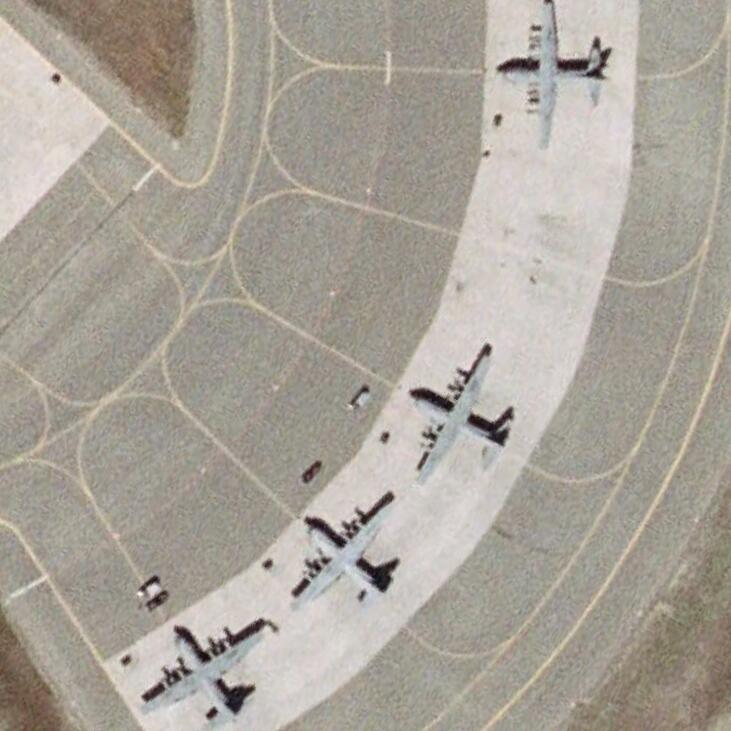A2: (495, 1, 611, 151), (409, 345, 516, 483), (139, 619, 276, 725), (291, 488, 401, 610)
